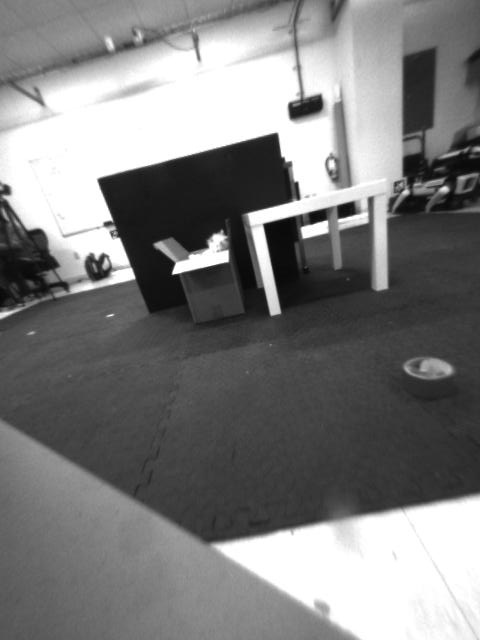dogtoy: (395, 350, 463, 407)
